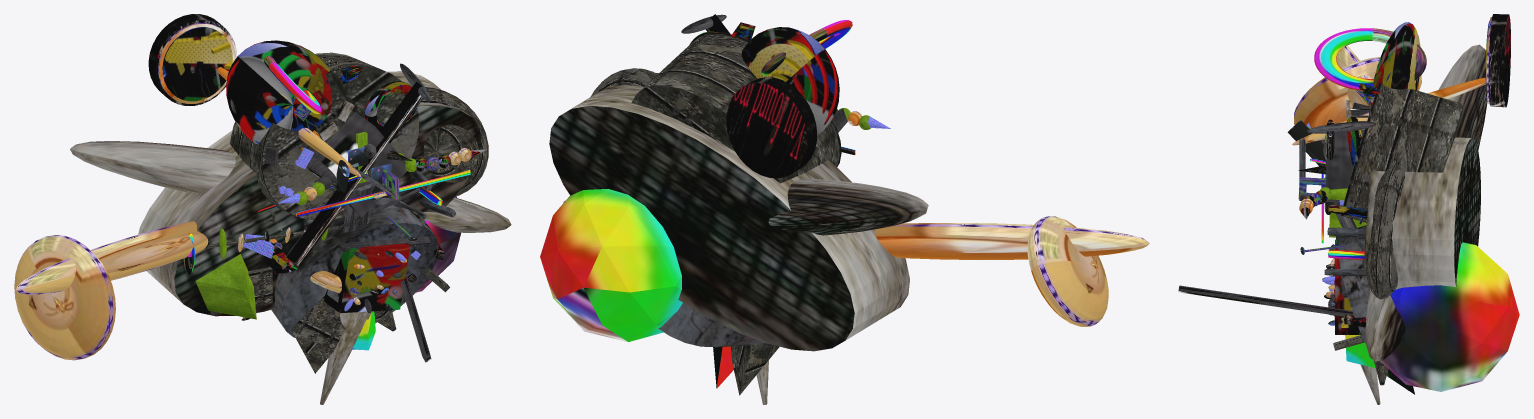
Rendered from atdm.glb.
3 renders of one model, left to right at view 1: azimuth 30°, elevation 25°; view 2: azimuth 150°, elevation 25°; view 3: azimuth 270°, elevation 25°, orthographic. The views are drawn at different scales.
Parts seen in each view (by area): view 1: Cylinder.007, Sphere.012, Cylinder.002, Sphere.016, Sphere.014, Cylinder.003, Sphere.013, Cylinder.013, Cube.008, Sphere.015, Cylinder.001, Cube.039 (+16 smaller); view 2: Cylinder.007, Icosphere, Cylinder.002, Cylinder.011, Sphere.013, Sphere.016, Sphere.012, Sphere.014, Cylinder.003, Cube.047, Torus.001, Sphere.015 (+1 smaller); view 3: Icosphere, Cylinder.007, Cylinder.002, Sphere.016, Sphere.015, Sphere.012, Torus.001, Sphere.014, Cylinder.011, Cylinder.003, Cube.021, Cube.007 (+13 smaller).
Boxes of the visible parts, x1,y1,x2,y2 form: Cylinder.007: [138, 71, 481, 316]; Sphere.012: [14, 235, 115, 360]; Cylinder.002: [230, 52, 419, 220]; Sphere.016: [70, 141, 511, 232]; Sphere.014: [226, 40, 331, 144]; Cylinder.003: [271, 197, 438, 337]; Sphere.013: [16, 221, 208, 294]; Cylinder.013: [162, 27, 232, 101]; Cube.008: [324, 243, 410, 313]; Sphere.015: [421, 87, 488, 196]; Cylinder.001: [286, 82, 428, 266]; Cube.039: [195, 254, 256, 319]; Cylinder.007: [549, 73, 909, 351]; Icosphere: [540, 189, 682, 341]; Cylinder.002: [631, 32, 841, 183]; Cylinder.011: [726, 77, 817, 178]; Sphere.013: [874, 223, 1149, 259]; Sphere.016: [563, 178, 928, 235]; Sphere.012: [1027, 216, 1108, 326]; Sphere.014: [741, 27, 839, 134]; Cylinder.003: [658, 303, 763, 347]; Cube.047: [730, 343, 779, 395]; Torus.001: [761, 20, 852, 75]; Sphere.015: [590, 68, 657, 96]; Icosphere: [1380, 242, 1519, 391]; Cylinder.007: [1366, 137, 1480, 293]; Cylinder.002: [1341, 82, 1464, 222]; Sphere.016: [1365, 44, 1487, 361]; Sphere.015: [1364, 165, 1404, 299]; Sphere.012: [1294, 57, 1421, 139]; Torus.001: [1314, 28, 1426, 90]; Sphere.014: [1369, 22, 1420, 114]; Cylinder.011: [1488, 14, 1510, 107]; Cylinder.003: [1338, 225, 1384, 366]; Cube.021: [1178, 285, 1353, 316]; Cube.007: [1326, 130, 1364, 210].
Bounding box in the file's own units: 711 × 477 × 413.
Materials: 13 (13 with a texture image).
